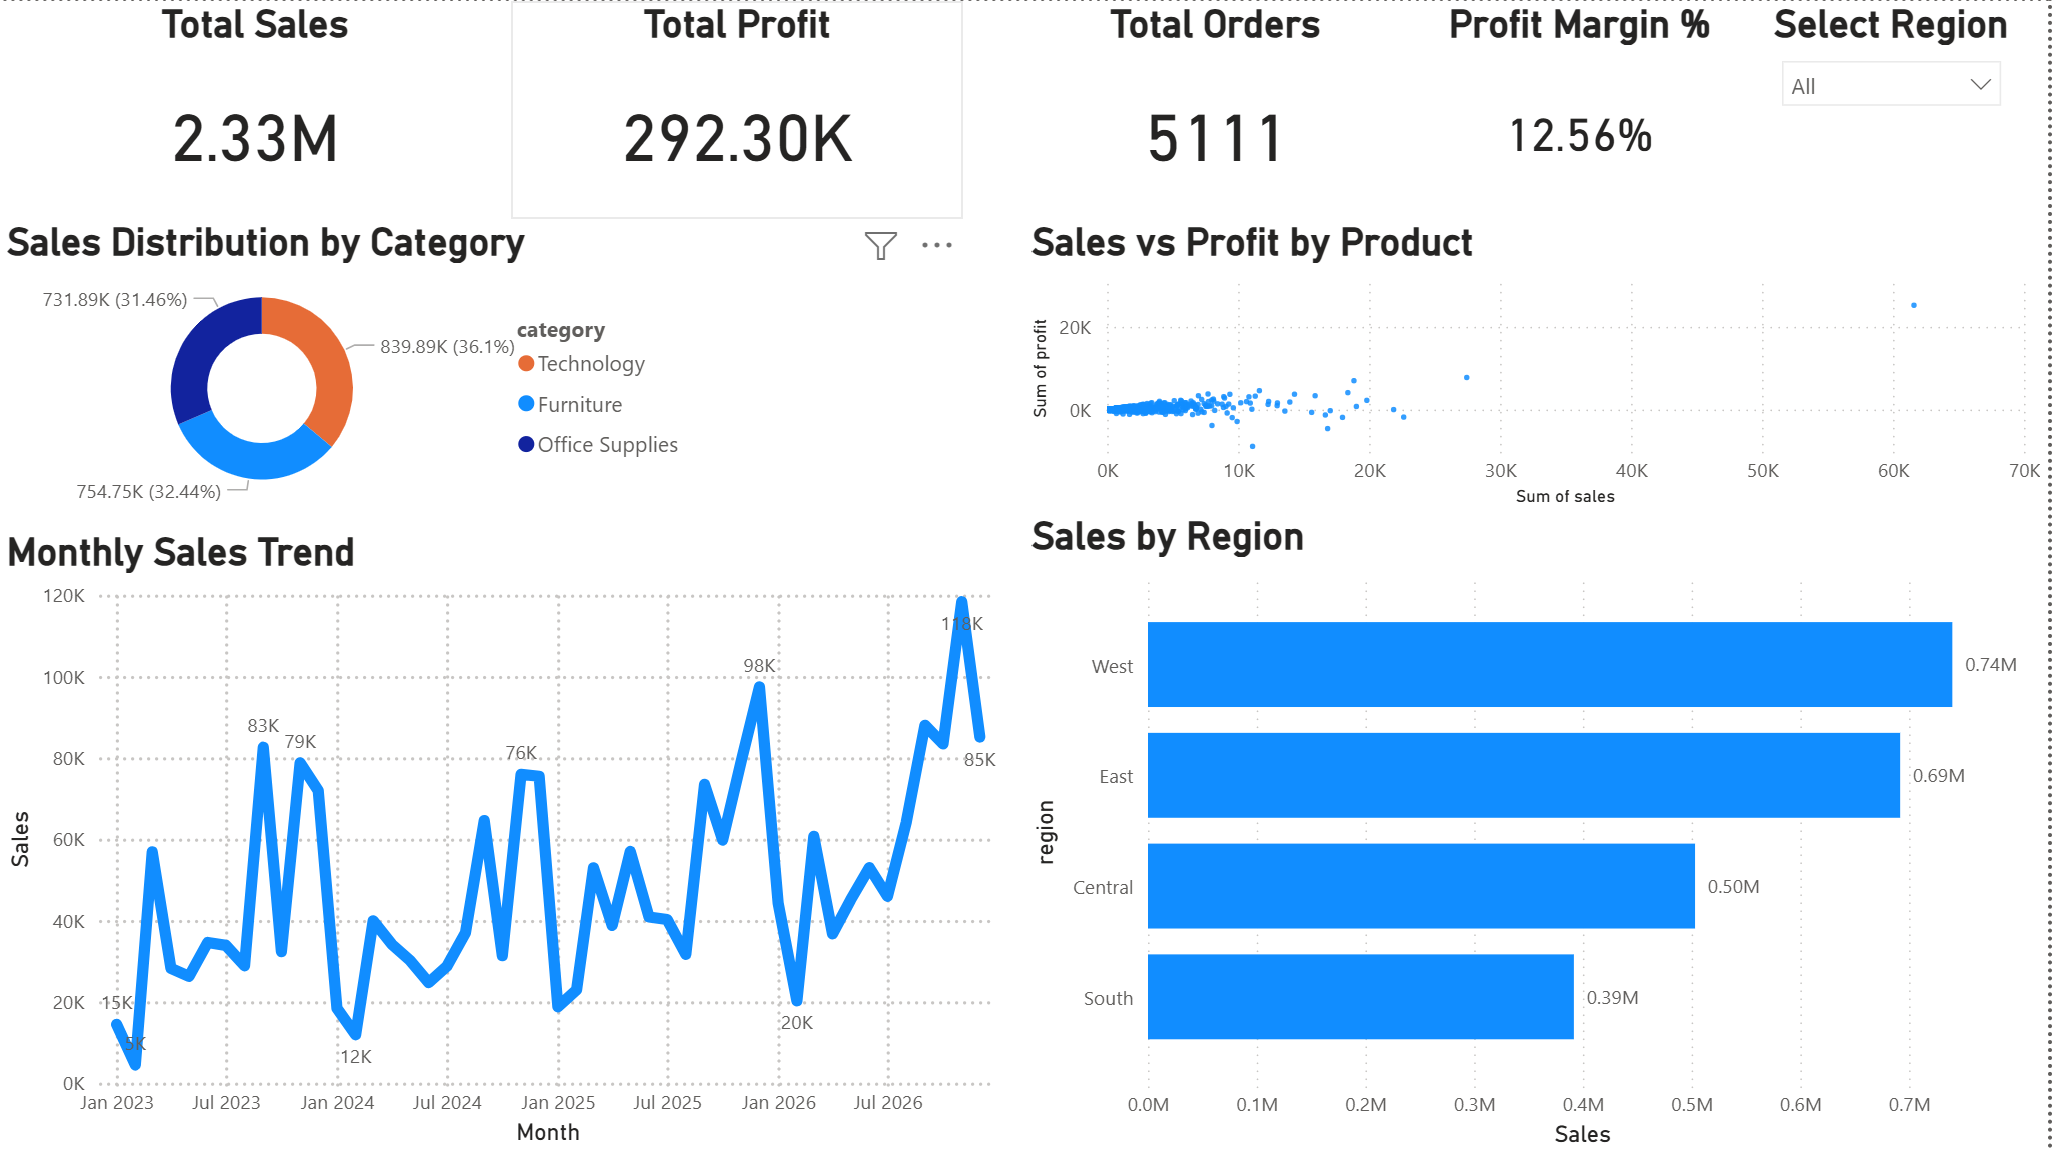

This screenshot's page, from the dashboard's own definition file:
{"tool":"powerbi","page":{"name":"Page 1","canvas":[1280,720],"ordinal":0},"visuals":[{"type":"card","title":"Total Sales","fields":{"Values":["Sum(retail_sales_project orders.sales)"]},"box":[0,0,320,135.7],"z":0},{"type":"lineChart","title":"Monthly Sales Trend","fields":{"Category":["retail_sales_project orders.order_date.Variation.Date Hierarchy.Year","retail_sales_project orders.order_date.Variation.Date Hierarchy.Month"],"Y":["Sum(retail_sales_project orders.sales)"]},"box":[0,330,640,390],"z":1000},{"type":"barChart","title":"Sales by Region","fields":{"Category":["retail_sales_project orders.region"],"Y":["Sum(retail_sales_project orders.sales)"]},"box":[640,320,640,401.4],"z":2000},{"type":"donutChart","title":"Sales Distribution by Category","fields":{"Category":["retail_sales_project orders.category"],"Y":["Sum(retail_sales_project orders.sales)"]},"box":[0,135.7,438.6,184.3],"z":3000},{"type":"scatterChart","title":"Sales vs Profit by Product","fields":{"X":["Sum(retail_sales_project orders.sales)"],"Y":["Sum(retail_sales_project orders.profit)"],"Category":["retail_sales_project orders.product_name"]},"box":[640,136,640,184],"z":4000},{"type":"card","title":"Total Profit","fields":{"Values":["Sum(retail_sales_project orders.profit)"]},"box":[320,0,282.9,135.7],"z":4002},{"type":"card","title":"Total Orders","fields":{"Values":["Count(retail_sales_project orders.order_id)"]},"box":[602.9,0,314.3,135.7],"z":4003},{"type":"slicer","title":"Select Region","fields":{"Values":["retail_sales_project orders.region"]},"box":[1104.3,0,157.1,98.6],"z":4004},{"type":"card","title":"Profit Margin %","fields":{"Values":["retail_sales_project orders.Profit Margin %"]},"box":[884.3,0,207.1,135.7],"z":4005}]}

Visuals, with their boxes in screenshot pixels (x1, y1, x2, y2), scaled from the page's 1280x720 canvas onto the 2056x1150 screenshot:
"Total Sales" card: [0,0,514,217]
"Monthly Sales Trend" lineChart: [0,527,1028,1149]
"Sales by Region" barChart: [1028,511,2055,1149]
"Sales Distribution by Category" donutChart: [0,217,705,511]
"Sales vs Profit by Product" scatterChart: [1028,217,2055,511]
"Total Profit" card: [514,0,968,217]
"Total Orders" card: [968,0,1473,217]
"Select Region" slicer: [1774,0,2026,157]
"Profit Margin %" card: [1420,0,1753,217]
